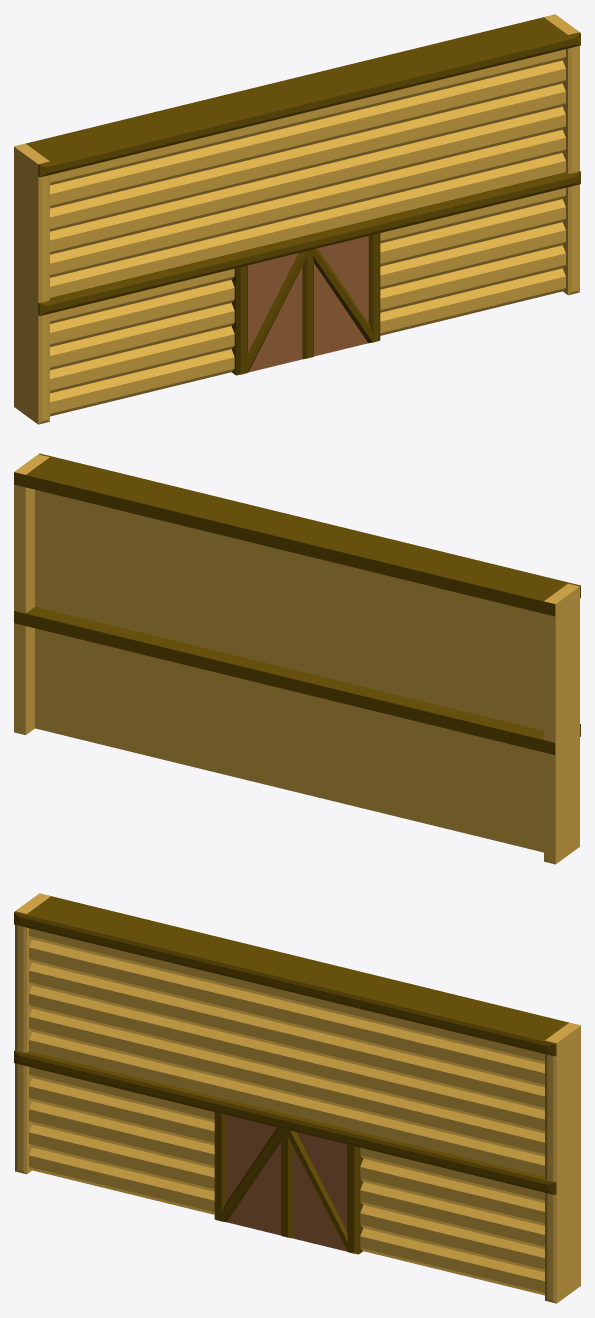
File: Wide Building.fbx
The picture shows the model from 3 angles, top to bottom: view 1: azimuth 30°, elevation 25°; view 2: azimuth 150°, elevation 25°; view 3: azimuth 330°, elevation 25°; orthographic projection.
Parts seen in each view (by area): view 1: polySurface50; view 2: polySurface50; view 3: polySurface50.
Boxes of the visible parts, left/top/right/bottom form: polySurface50: left=14, top=14, right=580, bottom=424; polySurface50: left=14, top=453, right=580, bottom=864; polySurface50: left=14, top=893, right=580, bottom=1303.
Bounding box in the file's own units: 24.53 × 11.27 × 2.07.
